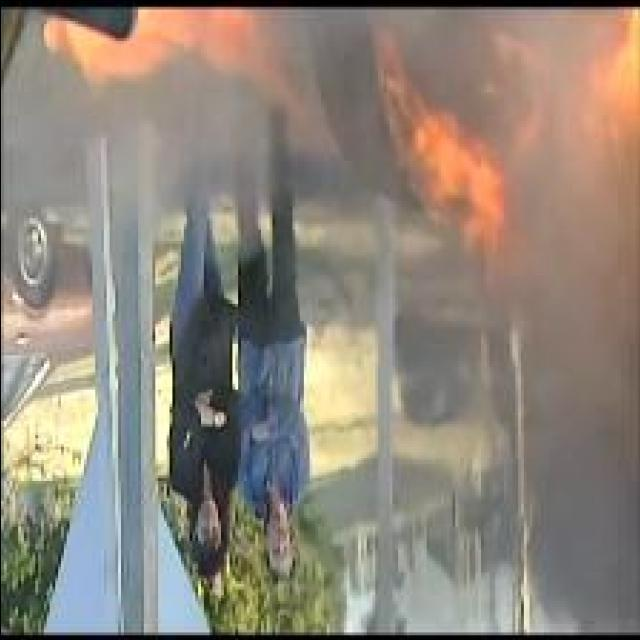Fire: (44, 8, 290, 98), (404, 105, 504, 282), (586, 9, 640, 129)
